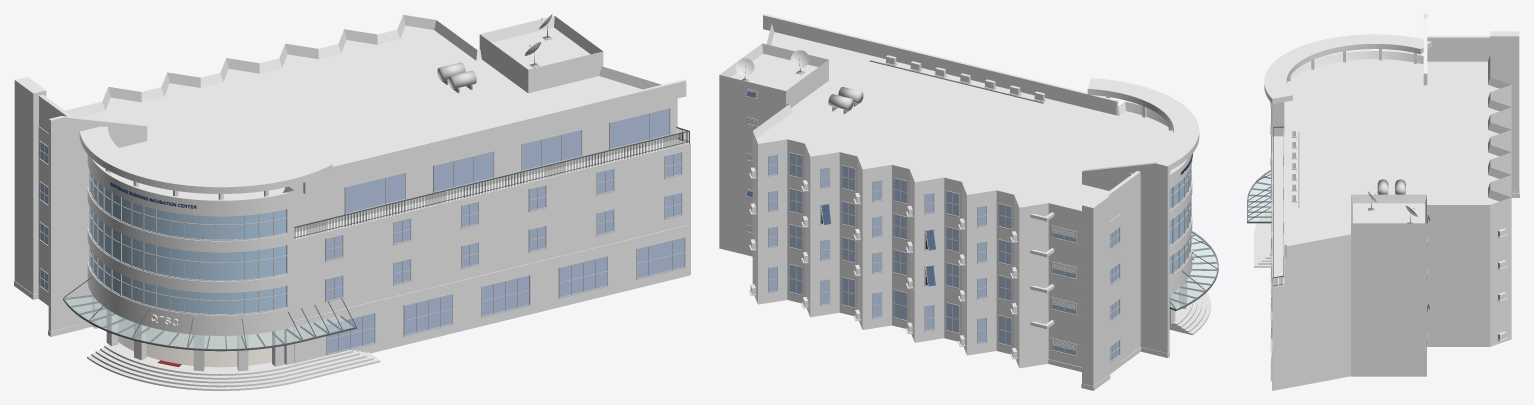
File: qtscincubator_building3final.glb
3 views of the same model, side by side, from view 1: azimuth 30°, elevation 25°; view 2: azimuth 150°, elevation 25°; view 3: azimuth 270°, elevation 25° (orthographic). The views are drawn at different scales.
Parts seen in each view (by area): view 1: SBI_Body_Top_L4_Roof, SBI_Body_Mid_L2-3, SBI_Right_Glass, SBI_Rot_Glass, SBI_Right_L1_Brick, SBI_Left_FinWall, SBI_Rot_White_Bands, SBI_Right_Parapet, SBI_Rear_StairCore, SBI_Rot_Steps, SBI_Right_Frames, SBI_Rotonda_Cornice_Ring (+12 smaller); view 2: SBI_Body_Top_L4_Roof, SBI_Body_Mid_L2-3, SBI_Body_Ground_L1, SBI_Rear_StairCore, SBI_Rear_Glass, SBI_Left_FinWall, SBI_Rear_Frames, SBI_Right_Parapet, SBI_Left_CornerPier, SBI_Left_ScreenWall, SBI_Rotonda_Cornice_Ring, SBI_Rot_Canopy_Glass (+15 smaller); view 3: SBI_Body_Top_L4_Roof, SBI_Rear_StairCore, SBI_Body_Mid_L2-3, SBI_Body_Ground_L1, SBI_Rotonda_Cornice_Ring, SBI_Left_CornerPier, SBI_Left_ScreenWall, SBI_Rot_Canopy_Glass, SBI_Rot_Steps, SBI_Right_Frames, SBI_Rot_Canopy_Frame, SBI_Right_Parapet (+5 smaller).
Boxes of the visible parts, left/top/right/bottom form: SBI_Body_Top_L4_Roof: left=65, top=15, right=677, bottom=241; SBI_Body_Mid_L2-3: left=288, top=139, right=690, bottom=322; SBI_Right_Glass: left=326, top=109, right=684, bottom=353; SBI_Rot_Glass: left=90, top=173, right=286, bottom=313; SBI_Right_L1_Brick: left=294, top=225, right=689, bottom=363; SBI_Left_FinWall: left=48, top=116, right=147, bottom=331; SBI_Rot_White_Bands: left=87, top=154, right=287, bottom=335; SBI_Right_Parapet: left=285, top=79, right=686, bottom=191; SBI_Rear_StairCore: left=479, top=16, right=603, bottom=93; SBI_Rot_Steps: left=87, top=342, right=380, bottom=390; SBI_Right_Frames: left=325, top=107, right=685, bottom=355; SBI_Rotonda_Cornice_Ring: left=79, top=126, right=332, bottom=193; SBI_Body_Top_L4_Roof: left=752, top=23, right=1181, bottom=254; SBI_Body_Mid_L2-3: left=752, top=178, right=1081, bottom=326; SBI_Body_Ground_L1: left=752, top=250, right=1081, bottom=368; SBI_Rear_StairCore: left=719, top=43, right=828, bottom=256; SBI_Rear_Glass: left=746, top=91, right=1010, bottom=345; SBI_Left_FinWall: left=1082, top=162, right=1169, bottom=353; SBI_Rear_Frames: left=746, top=89, right=1012, bottom=346; SBI_Right_Parapet: left=763, top=14, right=1118, bottom=115; SBI_Left_CornerPier: left=1082, top=193, right=1109, bottom=385; SBI_Left_ScreenWall: left=1104, top=171, right=1140, bottom=360; SBI_Rotonda_Cornice_Ring: left=1087, top=78, right=1199, bottom=175; SBI_Rot_Canopy_Glass: left=1169, top=231, right=1218, bottom=309; SBI_Body_Top_L4_Roof: left=1272, top=51, right=1511, bottom=285; SBI_Rear_StairCore: left=1351, top=194, right=1426, bottom=376; SBI_Body_Mid_L2-3: left=1272, top=136, right=1511, bottom=351; SBI_Body_Ground_L1: left=1272, top=300, right=1511, bottom=390; SBI_Rotonda_Cornice_Ring: left=1264, top=34, right=1431, bottom=103; SBI_Left_CornerPier: left=1490, top=31, right=1519, bottom=193; SBI_Left_ScreenWall: left=1427, top=36, right=1490, bottom=61; SBI_Rot_Canopy_Glass: left=1247, top=169, right=1271, bottom=221; SBI_Rot_Steps: left=1254, top=209, right=1271, bottom=267; SBI_Right_Frames: left=1270, top=132, right=1283, bottom=381; SBI_Rot_Canopy_Frame: left=1247, top=170, right=1271, bottom=223; SBI_Right_Parapet: left=1284, top=101, right=1286, bottom=257.
Bounding box in the file's own units: 51 × 19.2 × 28.03.
